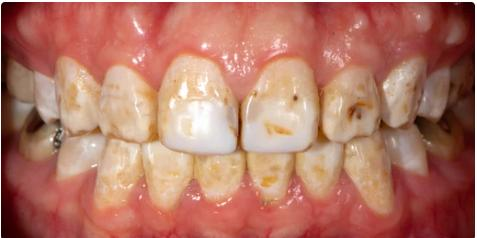LL1BC_healthy: (390, 129, 430, 185)
LL2BC_sdecay: (430, 127, 455, 171)
LLCI_mdecay: (246, 152, 296, 208)
LLC_mdecay: (348, 144, 385, 222)
LLLI_mdecay: (298, 146, 345, 201)
LR1BC_healthy: (56, 134, 100, 188)
LR2BC_sdecay: (18, 118, 55, 169)
LRCI_mdecay: (195, 153, 243, 205)
LRC_mdecay: (96, 142, 139, 213)
LRLI_mdecay: (143, 153, 191, 209)
ULCI_mdecay: (241, 54, 320, 150)
ULC_sdecay: (383, 56, 425, 124)
ULLI_sdecay: (320, 64, 383, 140)
URCI_mdecay: (158, 54, 238, 152)
URC_mdecay: (57, 53, 101, 132)
URLI_mdecay: (98, 58, 158, 141)
